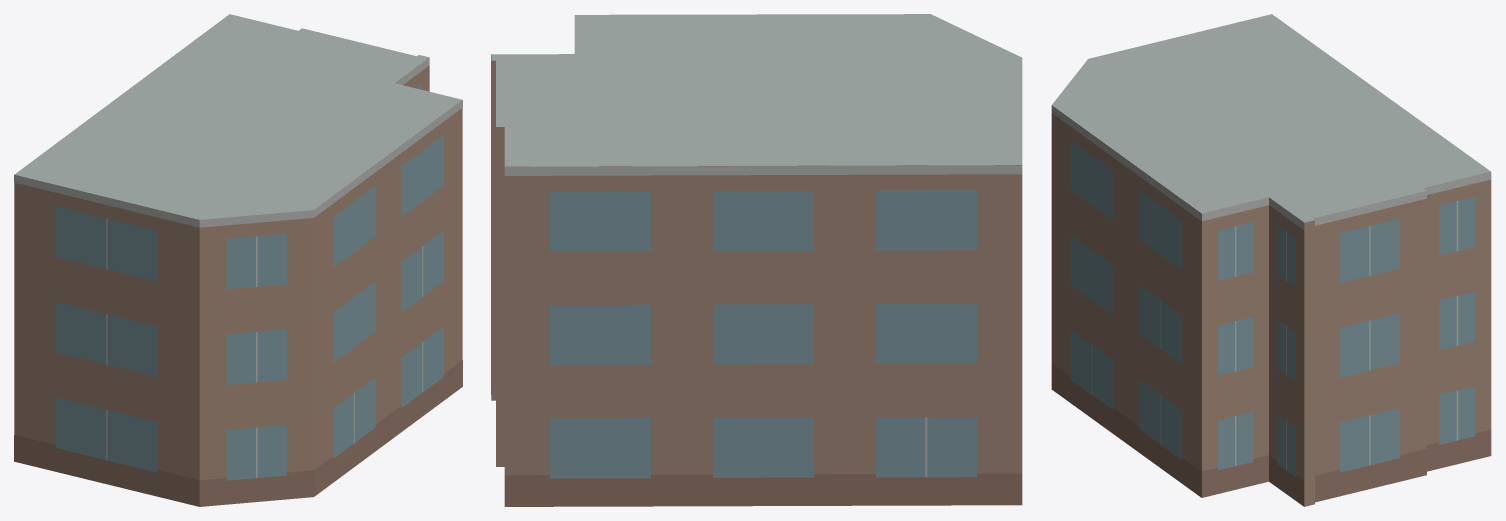
Rendered from survey-upis-32618388.glb.
The picture shows the model from 3 angles, left to right: view 1: azimuth 30°, elevation 25°; view 2: azimuth 150°, elevation 25°; view 3: azimuth 270°, elevation 25°; orthographic projection. The views are drawn at different scales.
Parts seen in each view (by area): view 1: survey-upis-32618388.tmp; view 2: survey-upis-32618388.tmp; view 3: survey-upis-32618388.tmp.
Part boxes in pixels (x1,y1,x2,y2): survey-upis-32618388.tmp: (14, 14, 462, 506); survey-upis-32618388.tmp: (491, 14, 1022, 506); survey-upis-32618388.tmp: (1051, 14, 1491, 506).
Bounding box in the file's own units: 14.18 × 9 × 12.63.
